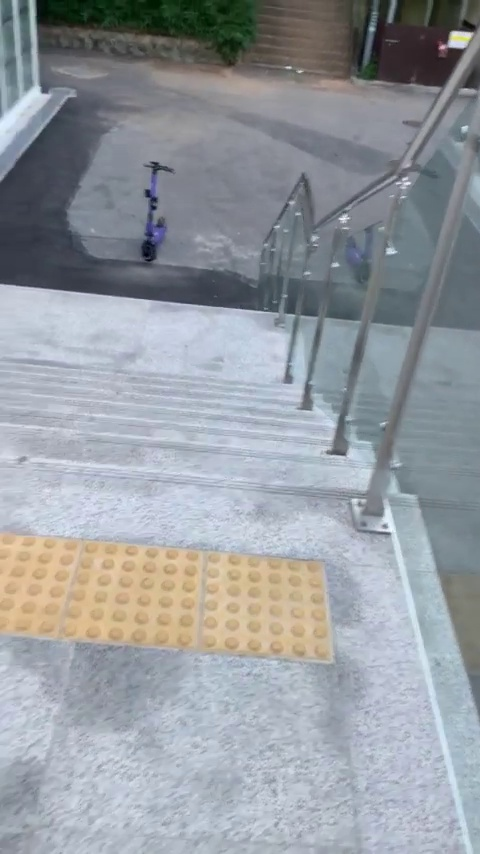beam: (135, 151, 180, 271)
